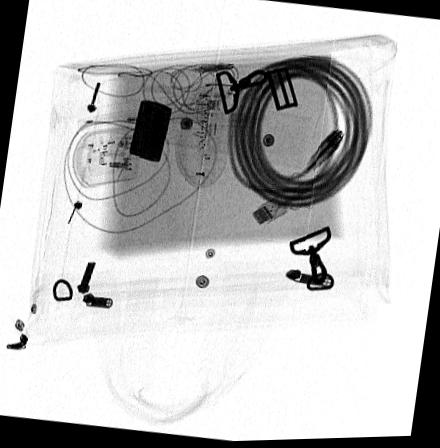Lighter: (127, 100, 171, 164)
